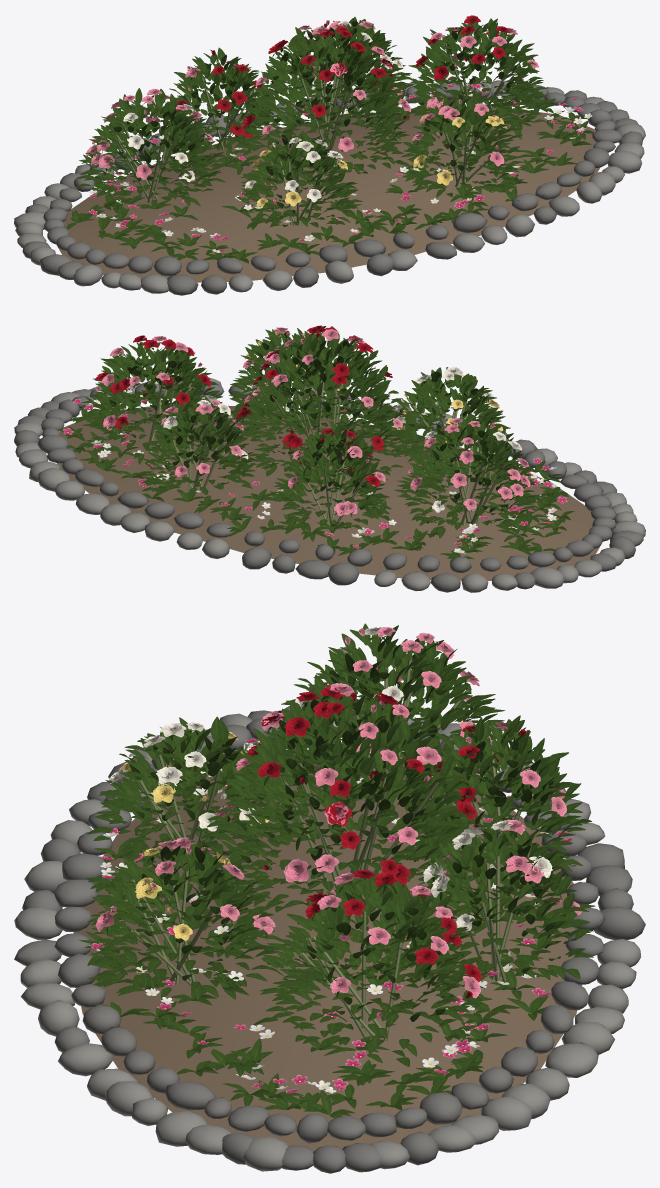
The model's file is yh_rosebed.glb.
3 renders of one model, top to bottom at view 1: azimuth 30°, elevation 25°; view 2: azimuth 150°, elevation 25°; view 3: azimuth 270°, elevation 25°, orthographic. The views are drawn at different scales.
Visible parts, largest first — view 1: yh_rosebed_花叶, yh_rosebed_土, yh_rosebed_卵石深, yh_rosebed_卵石, yh_rosebed_茎; view 2: yh_rosebed_花叶, yh_rosebed_土, yh_rosebed_卵石深, yh_rosebed_卵石, yh_rosebed_茎; view 3: yh_rosebed_花叶, yh_rosebed_土, yh_rosebed_卵石深, yh_rosebed_卵石, yh_rosebed_茎.
Boxes of the visible parts, x1,y1,x2,y2 form: yh_rosebed_花叶: (66, 15, 593, 263); yh_rosebed_土: (56, 107, 608, 282); yh_rosebed_卵石深: (22, 83, 642, 295); yh_rosebed_卵石: (14, 80, 645, 293); yh_rosebed_茎: (109, 42, 512, 226); yh_rosebed_花叶: (57, 325, 574, 562); yh_rosebed_土: (57, 405, 602, 580); yh_rosebed_卵石深: (14, 381, 643, 592); yh_rosebed_卵石: (14, 377, 645, 592); yh_rosebed_茎: (149, 354, 506, 526); yh_rosebed_花叶: (79, 623, 595, 1118); yh_rosebed_土: (73, 749, 582, 1150); yh_rosebed_卵石深: (14, 706, 645, 1173); yh_rosebed_卵石: (14, 713, 640, 1171); yh_rosebed_茎: (123, 656, 540, 1041).
Size of the model in its own units: 3.65 by 1 by 2.13.
Materials: 5 (1 with a texture image).
